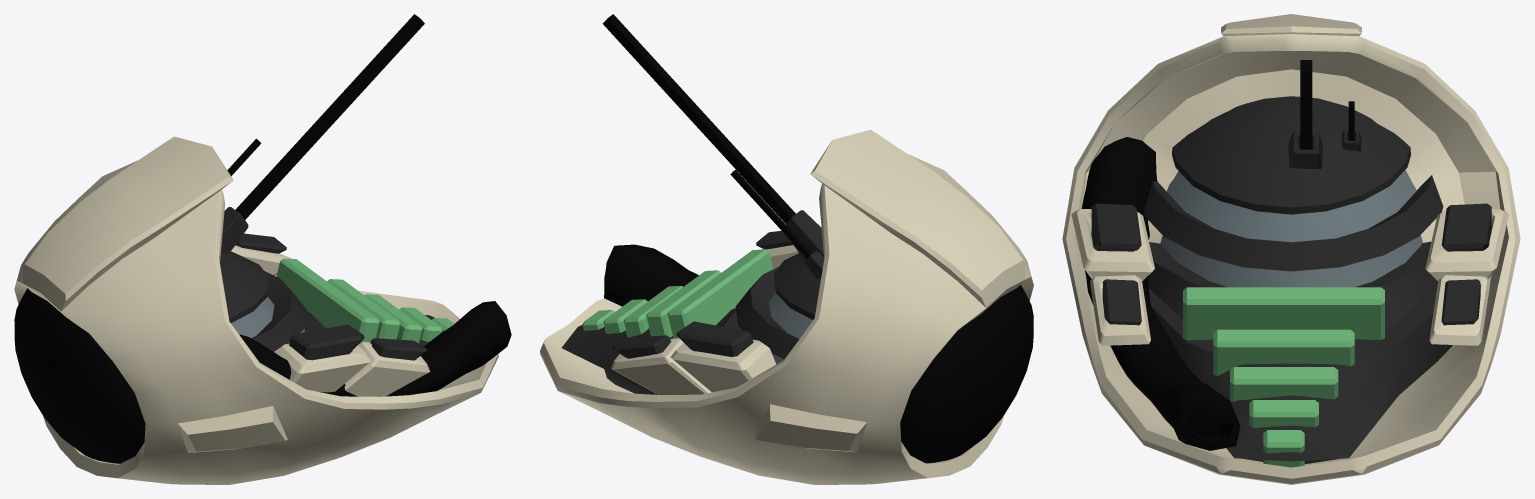
The model's file is base_ship.fbx.
The picture shows the model from 3 angles, left to right: view 1: azimuth 30°, elevation 25°; view 2: azimuth 150°, elevation 25°; view 3: azimuth 270°, elevation 25°; orthographic projection. The views are drawn at different scales.
Parts seen in each view (by area): view 1: hull, health3, health4, health5, health2; view 2: hull, health3, health4, health5, health2; view 3: hull, health3, health4, health5, health2, health1.
Part boxes in pixels (x1,y1,x2,y2): hull: (14, 14, 511, 484); health3: (276, 258, 379, 344); health4: (327, 279, 400, 339); health5: (364, 294, 422, 343); health2: (399, 307, 442, 341); hull: (540, 14, 1033, 484); health3: (667, 249, 773, 338); health4: (646, 270, 721, 337); health5: (623, 285, 682, 337); health2: (603, 299, 647, 333); hull: (1062, 14, 1520, 484); health3: (1183, 287, 1384, 340); health4: (1213, 329, 1354, 375); health5: (1230, 367, 1338, 401); health2: (1249, 400, 1318, 427); health1: (1263, 430, 1304, 467).
Bounding box in the file's own units: 20.36 × 17.72 × 15.66.
